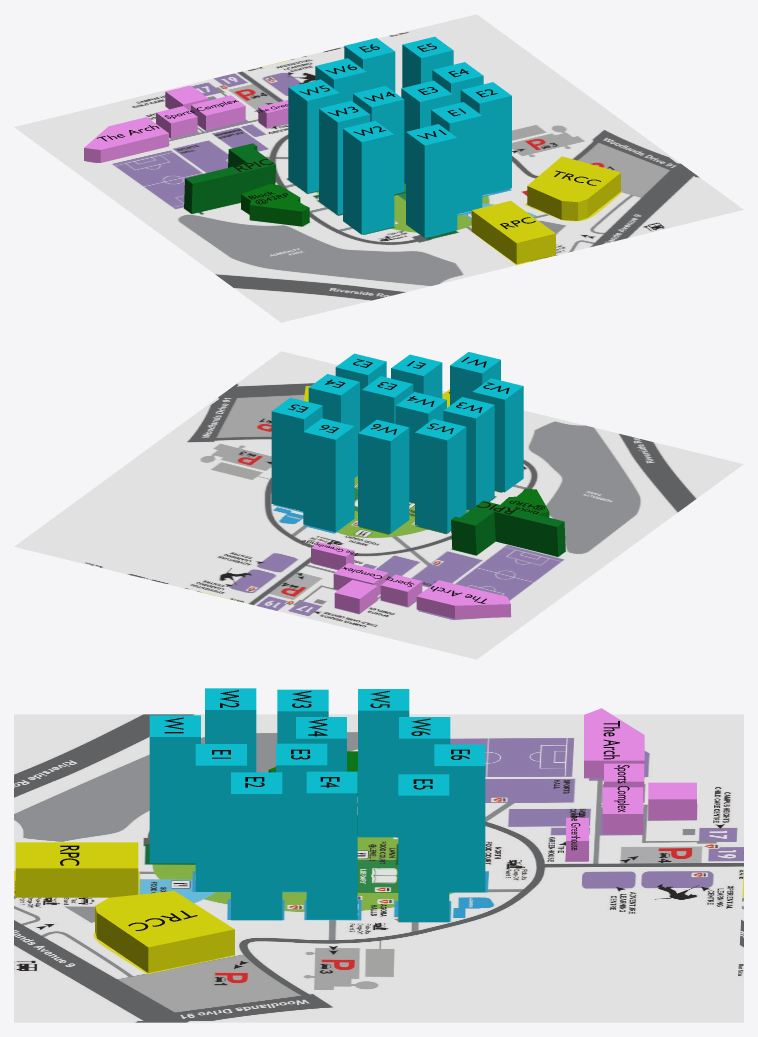
The model's file is campusmap.glb.
3 renders of one model, top to bottom at view 1: azimuth 30°, elevation 25°; view 2: azimuth 150°, elevation 25°; view 3: azimuth 270°, elevation 25°, orthographic. The views are drawn at different scales.
Visible parts, largest first — view 1: Plane, W1, W2, Plane.004, W5, Plane.001, E2, Cube, E1, W3, Plane.003, W4 (+10 smaller); view 2: Plane, E6, W6, W5, Plane.001, E5, W2, W3, Plane.003, E4, W4, E3 (+8 smaller); view 3: Plane, Plane.004, E5, E4, E2, W1, Cube, W5, E6, E1, E3, W2 (+8 smaller).
Part boxes in pixels (x1,y1,x2,y2): Plane: (14,14,743,322); W1: (406,124,457,237); W2: (343,120,394,234); Plane.004: (527,156,620,220); W5: (288,79,339,193); Plane.001: (184,143,275,213); E2: (460,82,511,195); Cube: (471,201,555,264); E1: (431,102,482,213); W3: (319,100,370,214); Plane.003: (84,117,168,162); W4: (353,86,404,194); Plane: (14,351,743,659); E6: (303,418,354,532); W6: (358,419,409,533); W5: (415,419,466,532); Plane.001: (451,500,565,556); E5: (271,397,322,511); W2: (472,378,523,492); W3: (443,397,494,509); Plane.003: (416,580,510,618); E4: (308,374,359,477); W4: (395,392,446,502); E3: (362,376,413,429); Plane: (14,714,743,1022); Plane.004: (95,891,234,972); E5: (398,774,449,922); E4: (306,771,357,919); E2: (231,772,282,920); W1: (149,715,200,863); Cube: (15,842,138,897); W5: (358,689,409,837); E6: (434,744,485,892); E1: (195,744,246,891); E3: (276,743,327,891); W2: (205,688,256,772).
Bounding box in the file's own units: 26.23 × 5.09 × 26.23.
Materials: 23 (1 with a texture image).
